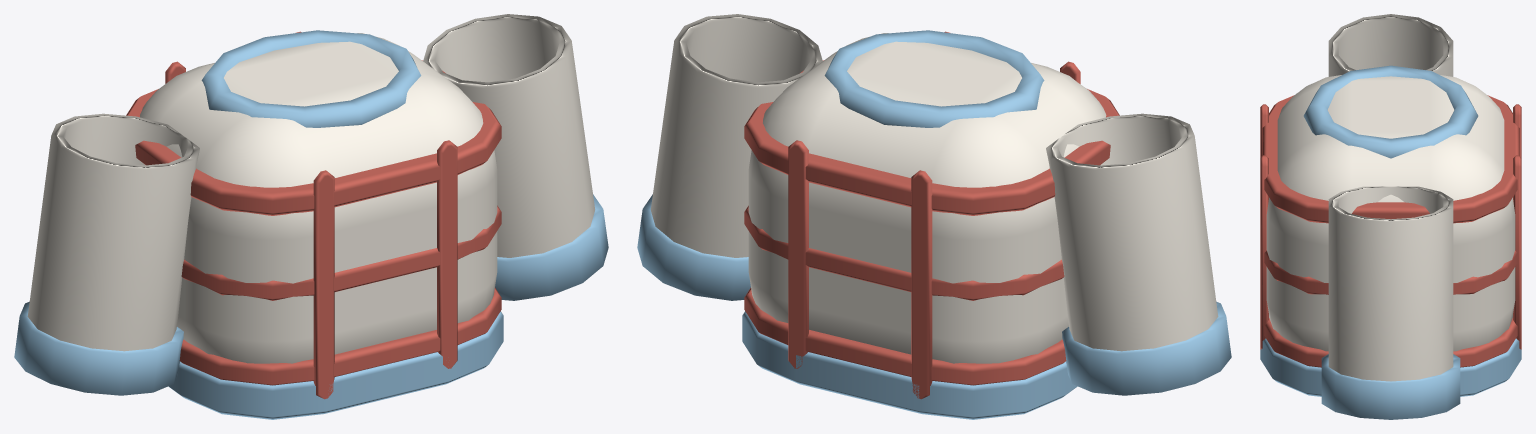
File: argyle_sweater.glb
3 views of the same model, side by side, from view 1: azimuth 30°, elevation 25°; view 2: azimuth 150°, elevation 25°; view 3: azimuth 270°, elevation 25° (orthographic). The views are drawn at different scales.
Parts seen in each view (by area): view 1: argyle_sweater_Body, argyle_sweater_ArmL, argyle_sweater_ArmR; view 2: argyle_sweater_Body, argyle_sweater_ArmL, argyle_sweater_ArmR; view 3: argyle_sweater_Body, argyle_sweater_ArmR, argyle_sweater_ArmL.
Part boxes in pixels (x1,y1,x2,y2): argyle_sweater_Body: (126,30,503,419); argyle_sweater_ArmL: (14,113,199,395); argyle_sweater_ArmR: (423,14,608,300); argyle_sweater_Body: (742,30,1119,419); argyle_sweater_ArmL: (1046,113,1231,395); argyle_sweater_ArmR: (637,14,822,300); argyle_sweater_Body: (1260,65,1521,396); argyle_sweater_ArmR: (1321,186,1460,419); argyle_sweater_ArmL: (1328,14,1453,76).
Size of the model in its own units: 0.6504 by 0.3119 by 0.302.
